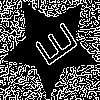E: (25, 20, 80, 74)
